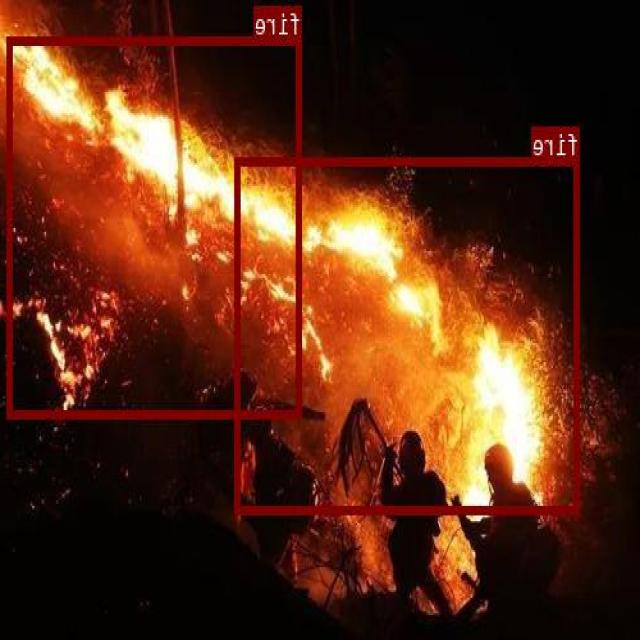fire: (236, 157, 581, 512), (9, 36, 302, 416)
